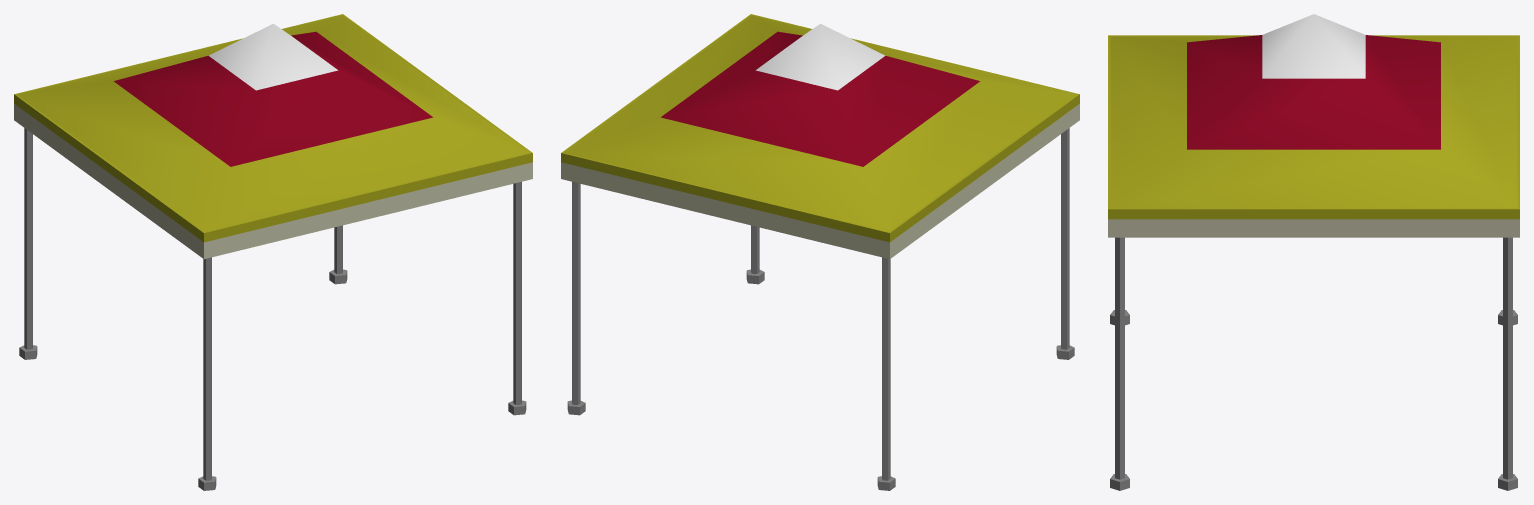
The model's file is PopupTent.fbx.
3 views of the same model, side by side, from view 1: azimuth 30°, elevation 25°; view 2: azimuth 150°, elevation 25°; view 3: azimuth 270°, elevation 25° (orthographic). The views are drawn at different scales.
Parts seen in each view (by area): view 1: PopupTent; view 2: PopupTent; view 3: PopupTent.
Boxes of the visible parts, box(x1,y1,x2,y2) form: PopupTent: box(14, 14, 532, 490); PopupTent: box(561, 14, 1079, 490); PopupTent: box(1108, 14, 1519, 490).
Bounding box in the file's own units: 318 × 333 × 318.
